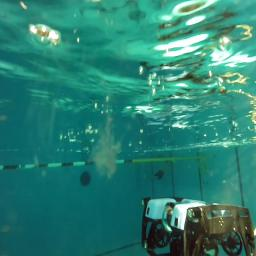front: (140, 194, 256, 256)
